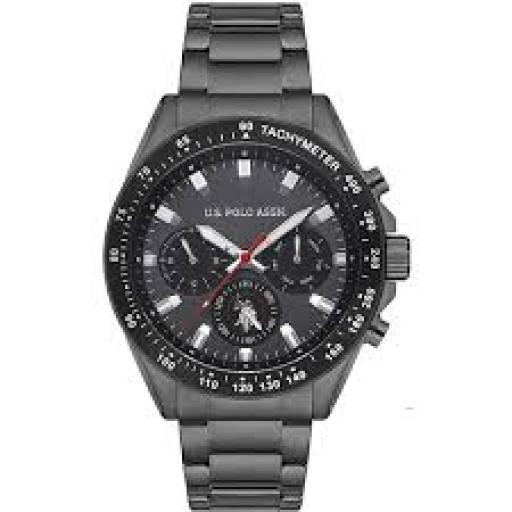KolSaati: (85, 0, 431, 512)
